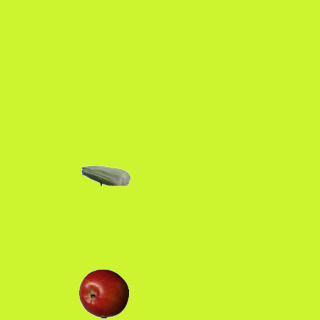Apple Braeburn: (78, 268, 128, 318)
Corn Husk: (80, 150, 130, 200)
